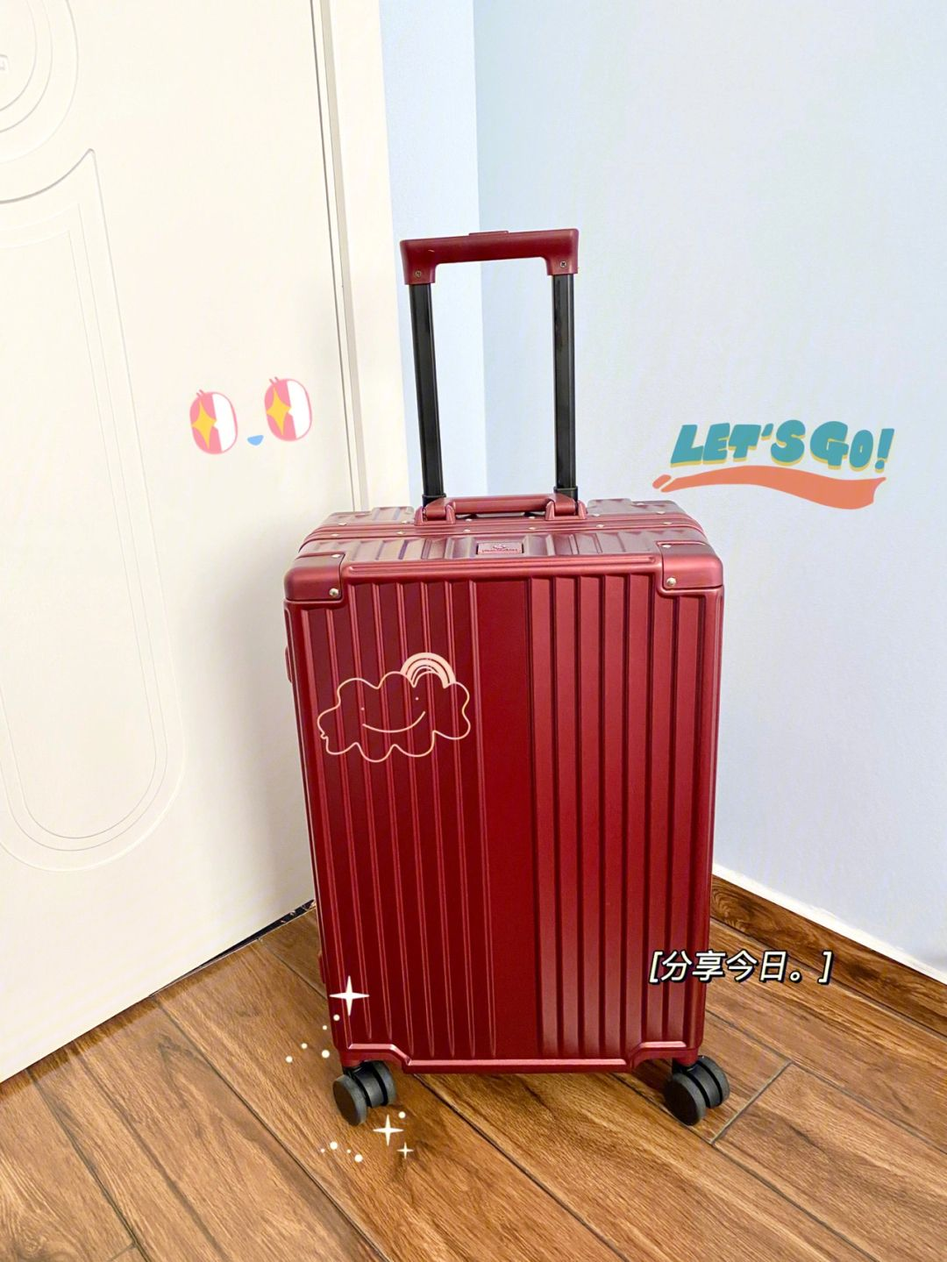box: (284, 498, 726, 1075)
handle: (415, 493, 587, 528)
wheel: (664, 1054, 730, 1125), (331, 1060, 396, 1128)
